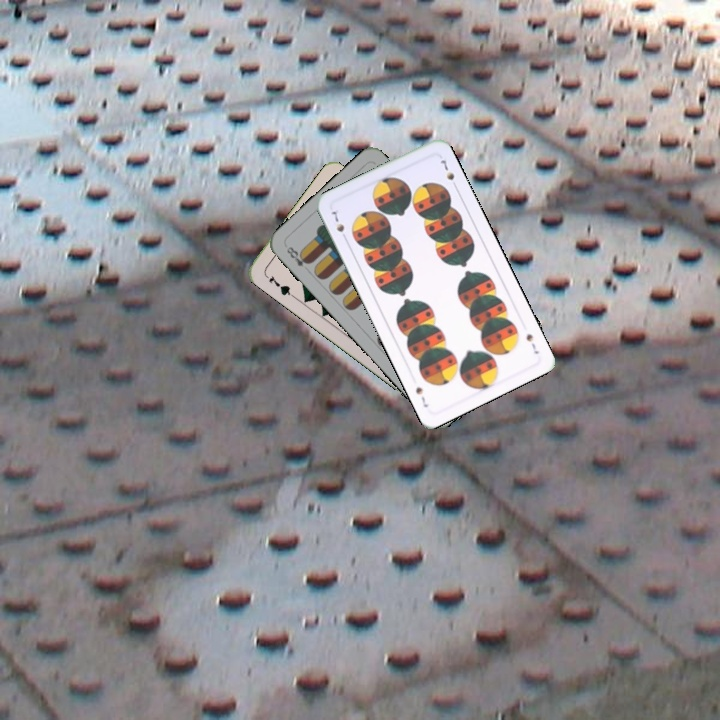E8: (282, 243, 313, 269)
G7: (261, 270, 296, 299)
S7: (328, 207, 350, 243), (522, 329, 542, 357)
